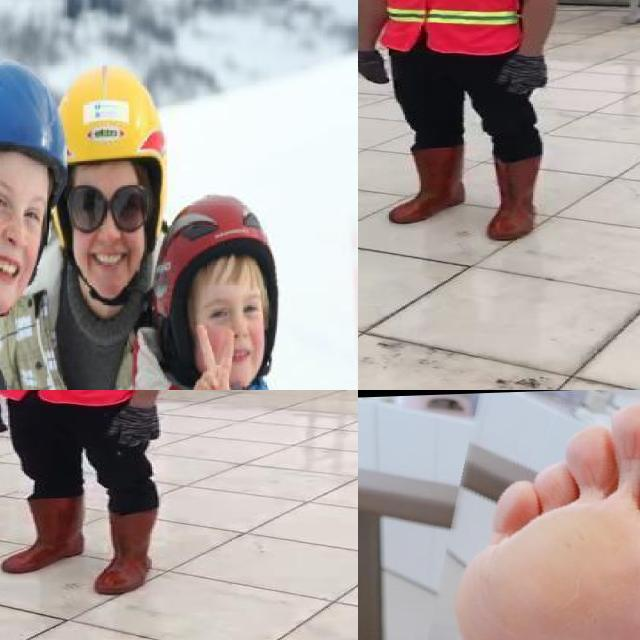Barefoots: (433, 414, 640, 640)
boots: (3, 496, 86, 572), (91, 510, 162, 597), (386, 148, 464, 224), (487, 154, 542, 244)
face_nomask: (65, 182, 145, 274), (202, 298, 270, 376), (0, 188, 42, 282)
glasses: (61, 179, 157, 243)
hand_glove: (108, 404, 168, 449), (498, 55, 552, 100), (358, 50, 392, 84), (0, 398, 11, 433)
hand_noglove: (186, 327, 242, 390)
head_helmet: (47, 63, 170, 168), (161, 194, 276, 300), (0, 60, 65, 169)
person: (18, 50, 175, 390), (358, 0, 569, 249), (0, 390, 189, 598), (126, 191, 313, 390)
vest: (372, 0, 522, 56)
